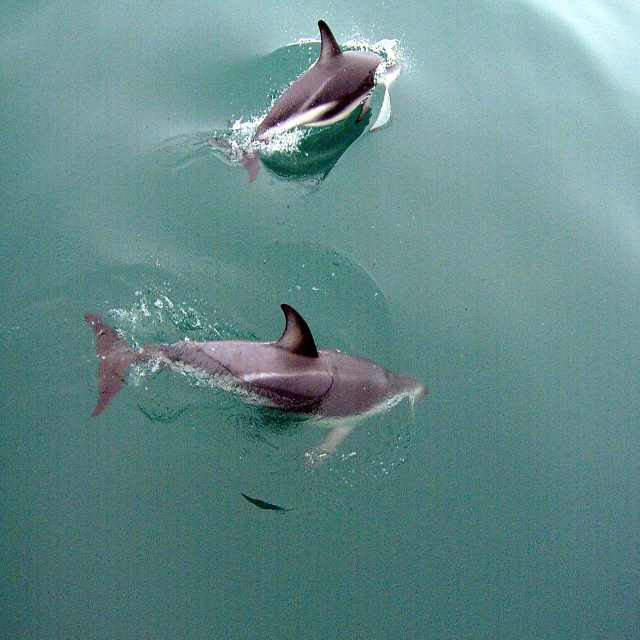Fish: (83, 303, 430, 470), (208, 19, 387, 185)
